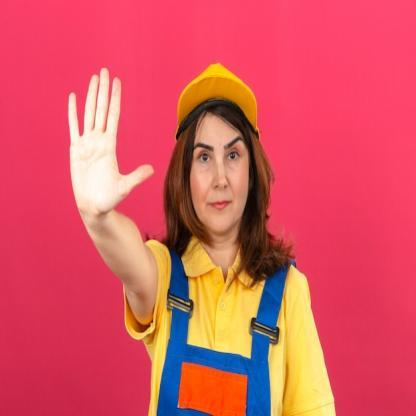stop: (64, 64, 154, 221)
